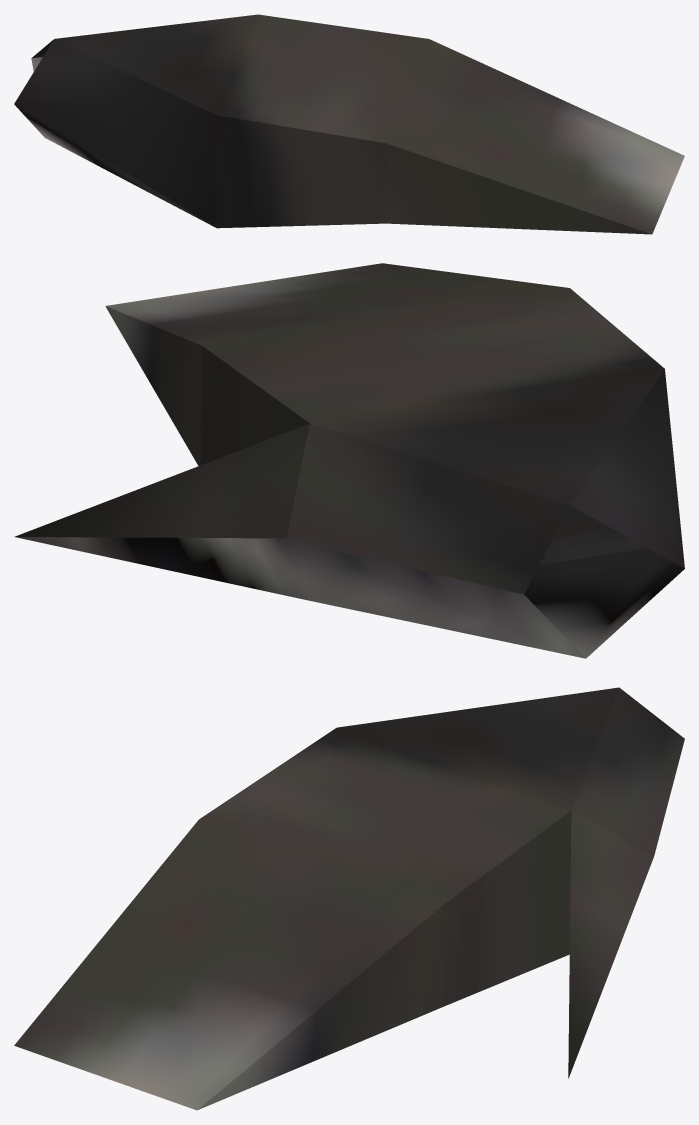
The model's file is kingjulien_hand_der.obj.
3 views of the same model, one above another, from view 1: azimuth 30°, elevation 25°; view 2: azimuth 150°, elevation 25°; view 3: azimuth 270°, elevation 25° (orthographic). The views are drawn at different scales.
Parts seen in each view (by area): view 1: kingjulien_hand_der; view 2: kingjulien_hand_der; view 3: kingjulien_hand_der.
Part boxes in pixels (bbox=[...]): kingjulien_hand_der: bbox=[14, 14, 684, 234]; kingjulien_hand_der: bbox=[14, 263, 684, 658]; kingjulien_hand_der: bbox=[14, 687, 684, 1110].
Size of the model in its own units: 0.446 by 0.1037 by 0.3933.
